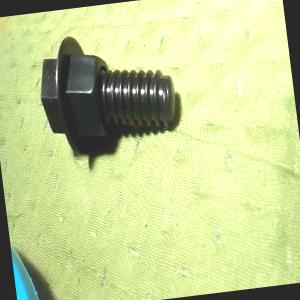parafuso: (34, 25, 182, 160)
